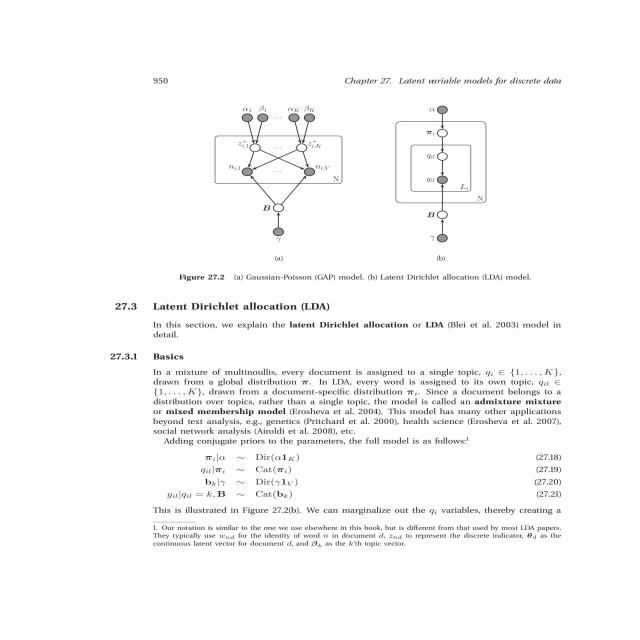diagram: (100, 92, 628, 288)
